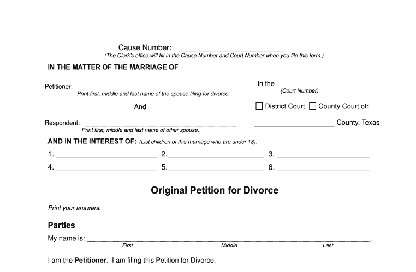checkbox: (307, 102, 317, 112), (255, 101, 263, 111)
textline: (85, 235, 372, 243), (84, 117, 237, 128), (78, 81, 236, 91), (56, 148, 158, 159), (167, 161, 265, 172), (167, 148, 265, 159), (276, 148, 370, 159), (56, 162, 158, 172), (179, 45, 286, 54), (276, 162, 370, 172), (253, 117, 335, 128), (277, 79, 334, 88)
